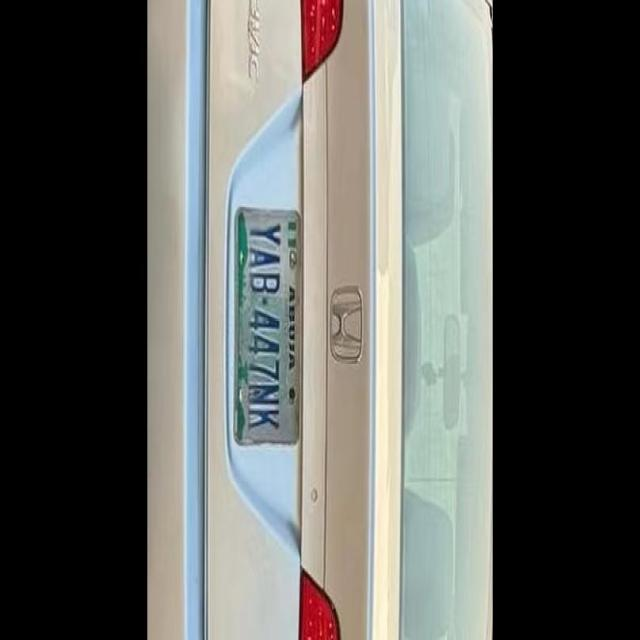Nigerian License Plate - vdataset benjamin-daria: (232, 202, 304, 450)
